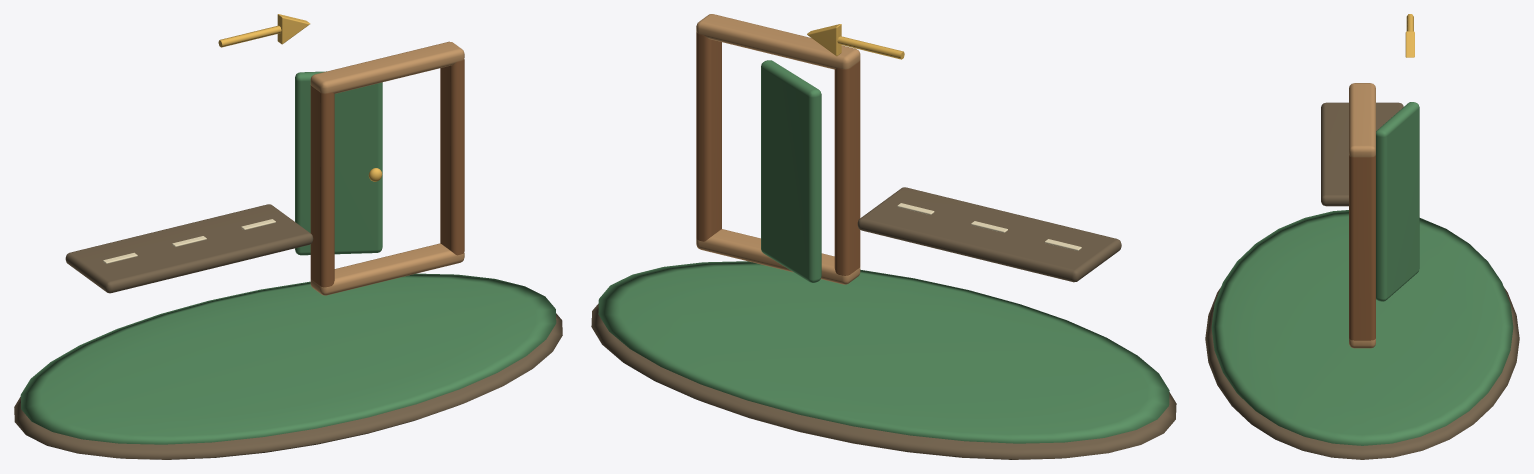
Rendered from complete-third-smooth-convenient-route.glb.
3 renders of one model, left to right at view 1: azimuth 30°, elevation 25°; view 2: azimuth 150°, elevation 25°; view 3: azimuth 270°, elevation 25°, orthographic. The views are drawn at different scales.
Parts seen in each view (by area): view 1: complete-third-smooth-convenient-route_surface_01, complete-third-smooth-convenient-route_surface_00, complete-third-smooth-convenient-route_surface_03, complete-third-smooth-convenient-route_surface_04, complete-third-smooth-convenient-route_surface_05; view 2: complete-third-smooth-convenient-route_surface_01, complete-third-smooth-convenient-route_surface_00, complete-third-smooth-convenient-route_surface_03, complete-third-smooth-convenient-route_surface_04, complete-third-smooth-convenient-route_surface_05, complete-third-smooth-convenient-route_surface_02; view 3: complete-third-smooth-convenient-route_surface_01, complete-third-smooth-convenient-route_surface_00, complete-third-smooth-convenient-route_surface_03, complete-third-smooth-convenient-route_surface_04, complete-third-smooth-convenient-route_surface_05.
Boxes of the visible parts, bbox=[...] form: complete-third-smooth-convenient-route_surface_01: bbox=[20, 71, 556, 444]; complete-third-smooth-convenient-route_surface_00: bbox=[14, 204, 562, 459]; complete-third-smooth-convenient-route_surface_03: bbox=[310, 59, 464, 287]; complete-third-smooth-convenient-route_surface_04: bbox=[310, 41, 464, 295]; complete-third-smooth-convenient-route_surface_05: bbox=[218, 14, 382, 181]; complete-third-smooth-convenient-route_surface_01: bbox=[598, 60, 1169, 443]; complete-third-smooth-convenient-route_surface_00: bbox=[591, 187, 1176, 459]; complete-third-smooth-convenient-route_surface_03: bbox=[696, 32, 860, 275]; complete-third-smooth-convenient-route_surface_04: bbox=[696, 14, 860, 284]; complete-third-smooth-convenient-route_surface_05: bbox=[807, 24, 904, 59]; complete-third-smooth-convenient-route_surface_02: bbox=[897, 203, 1081, 250]; complete-third-smooth-convenient-route_surface_01: bbox=[1211, 102, 1513, 445]; complete-third-smooth-convenient-route_surface_00: bbox=[1205, 102, 1519, 459]; complete-third-smooth-convenient-route_surface_03: bbox=[1349, 155, 1375, 340]; complete-third-smooth-convenient-route_surface_04: bbox=[1349, 83, 1375, 348]; complete-third-smooth-convenient-route_surface_05: bbox=[1405, 14, 1414, 57].
Size of the model in its own units: 4.56 by 2.89 by 2.5.
